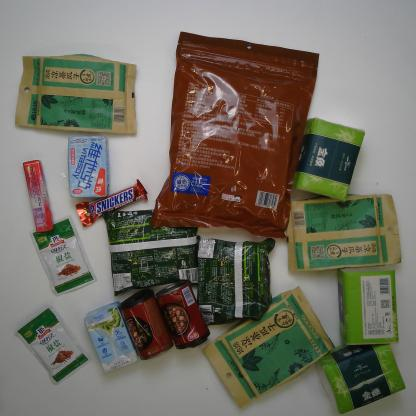Candy: (22, 159, 56, 233)
Canned Food: (116, 287, 175, 361), (156, 278, 210, 350)
Chocolate: (75, 178, 149, 227)
Dried Food: (150, 30, 321, 240), (203, 286, 337, 409), (13, 52, 139, 135), (286, 193, 403, 272)
Instant Noodles: (101, 208, 200, 298), (196, 234, 276, 326)
Milk: (83, 300, 140, 374), (66, 135, 111, 199)
Seasoner: (13, 305, 94, 386), (28, 213, 98, 297)
Tissue: (290, 116, 366, 204), (316, 344, 406, 416), (336, 268, 400, 348)
